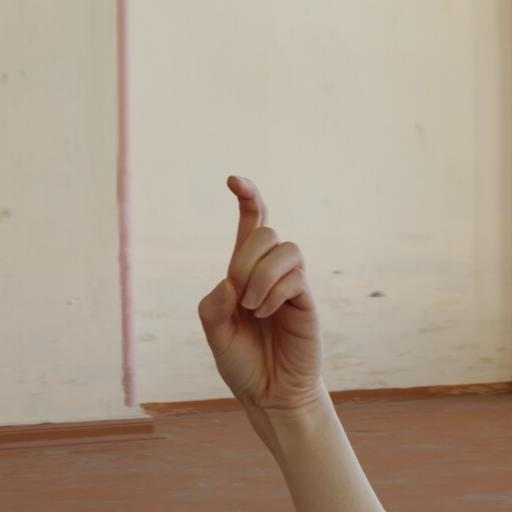X: (151, 114, 454, 512)
